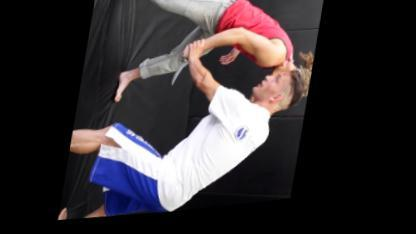knife: (170, 42, 196, 93)
